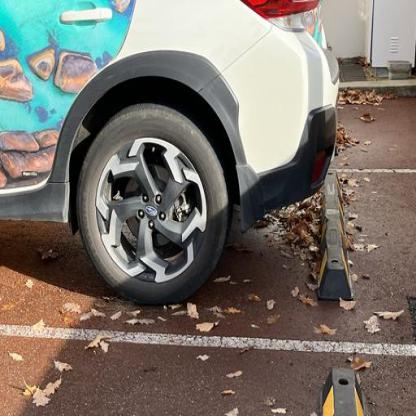Tire: (76, 103, 231, 306)
